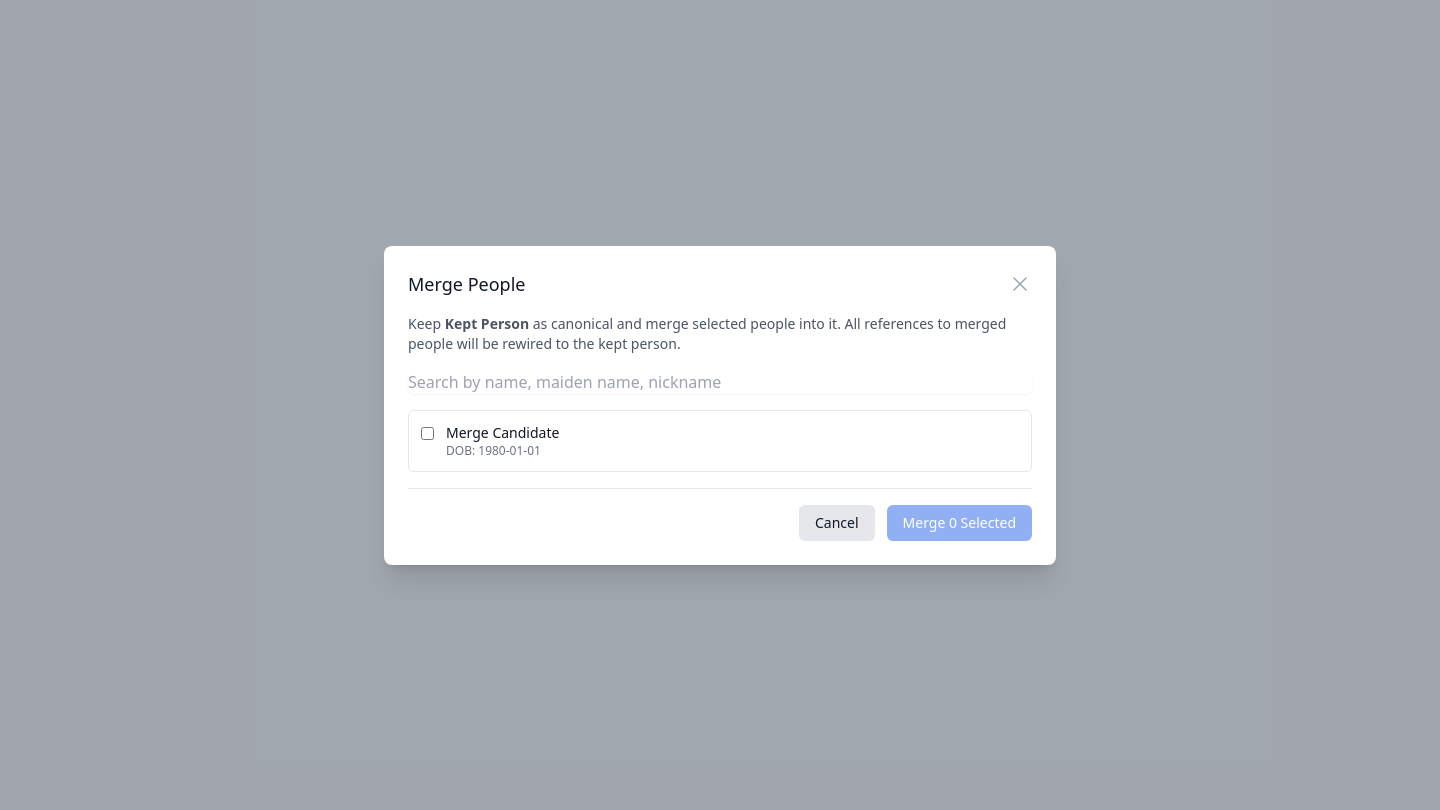
Test case: MergePeopleModal › renders preview error state
Expected: the text "Merge Candidate" is shown, x1=446 y1=422 x2=559 y2=442
Click the checkbox. click: (428, 433)
box: x1=421 y1=426 x2=434 y2=440
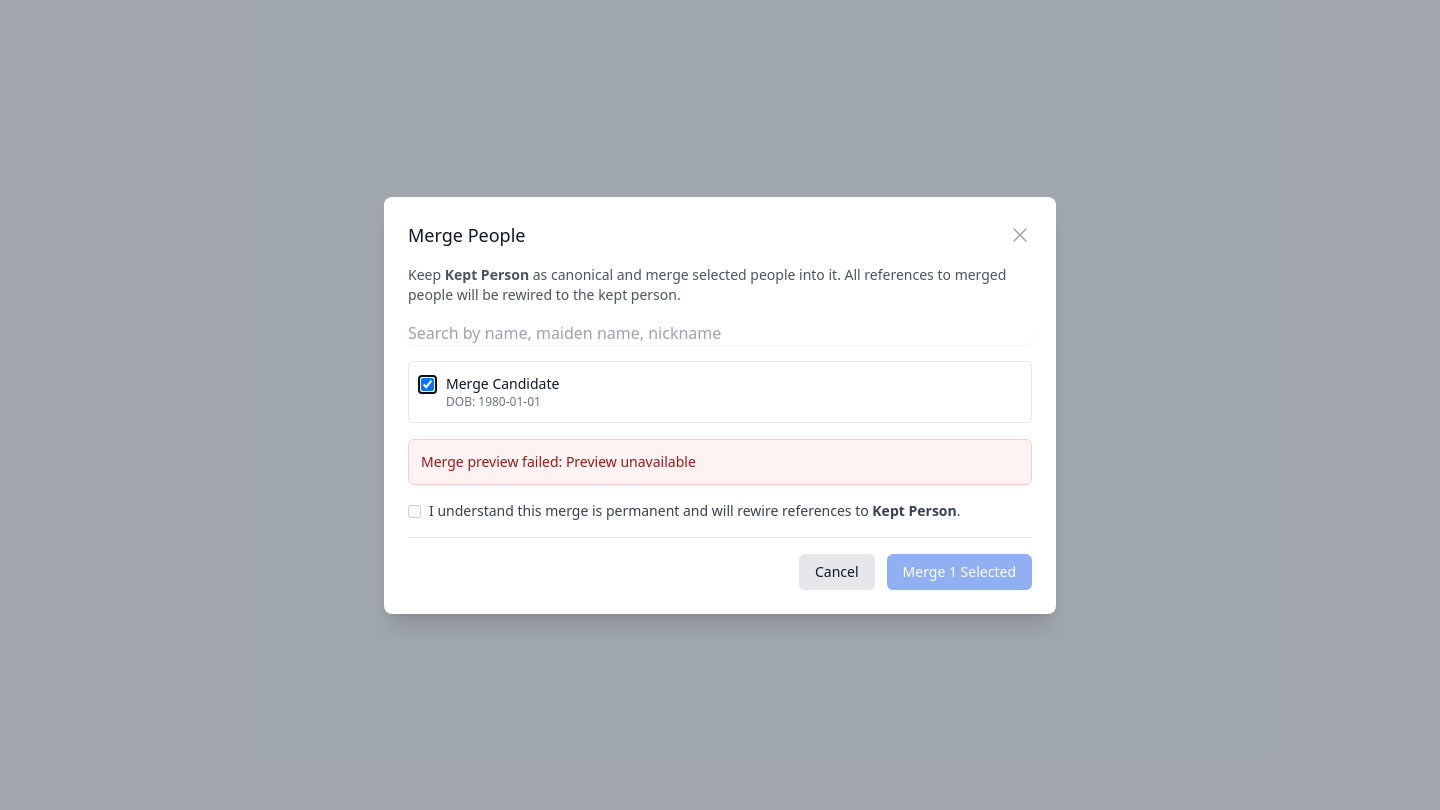
Expected: the text "Merge preview failed: Preview unavailable" is shown, x1=408 y1=438 x2=1032 y2=484
